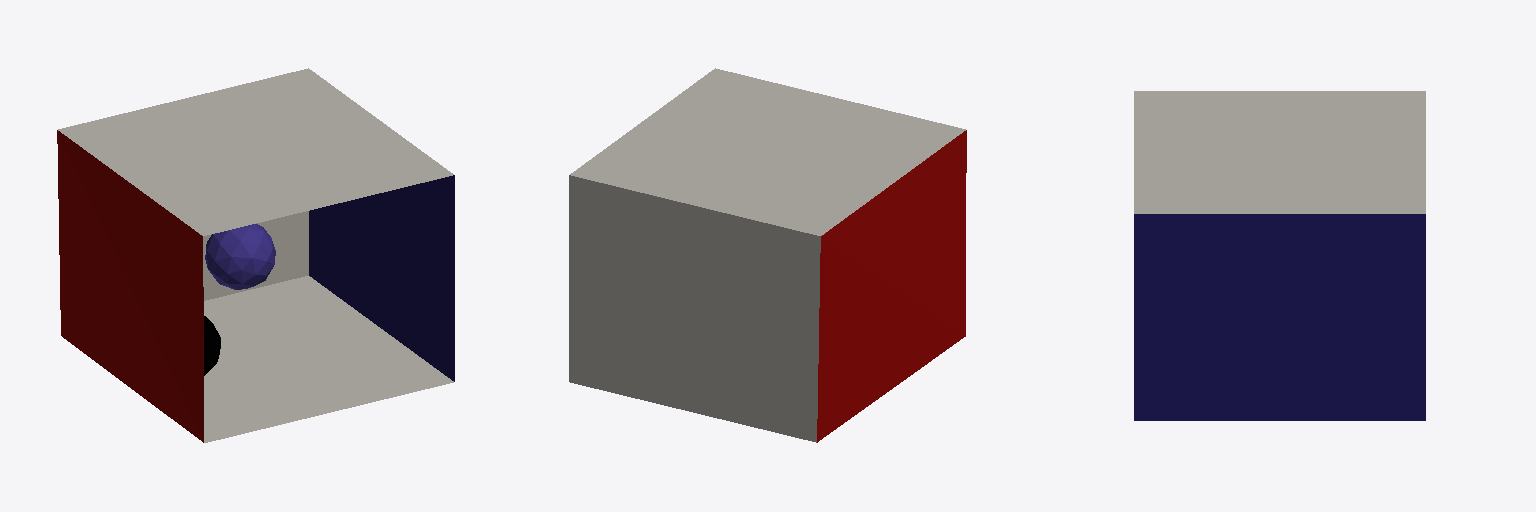
Rendered from CornellBox-Sphere-1084.obj.
3 renders of one model, left to right at view 1: azimuth 30°, elevation 25°; view 2: azimuth 150°, elevation 25°; view 3: azimuth 270°, elevation 25°, orthographic.
Parts seen in each view (by area): view 1: ceiling, leftWall, floor, rightWall, leftSphere, backWall, rightSphere; view 2: backWall, ceiling, leftWall; view 3: rightWall, ceiling.
Part boxes in pixels (x1,y1,x2,y2): ceiling: (58, 68, 453, 235); leftWall: (57, 130, 203, 442); floor: (204, 276, 453, 442); rightWall: (309, 175, 454, 381); leftSphere: (205, 224, 275, 289); backWall: (203, 211, 308, 300); rightSphere: (204, 316, 220, 375); backWall: (569, 175, 820, 442); ceiling: (570, 68, 965, 235); leftWall: (817, 130, 966, 442); rightWall: (1134, 214, 1425, 420); ceiling: (1134, 91, 1425, 213).
Size of the model in its own units: 2.02 by 1.59 by 2.03.